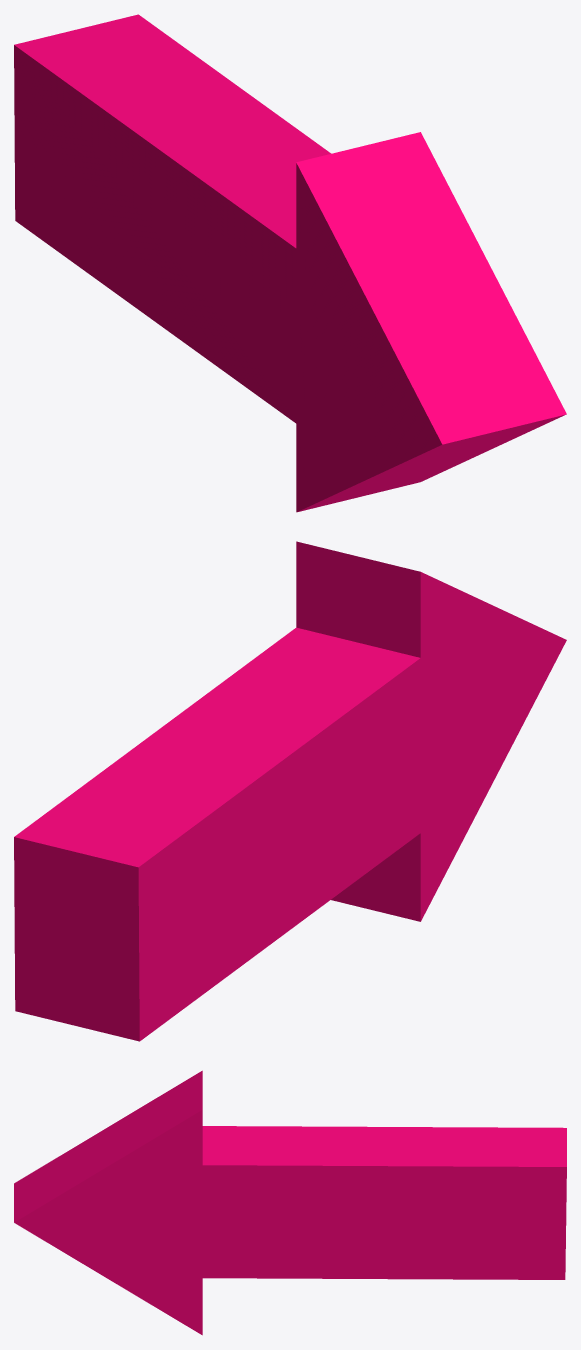
Rendered from arrow.fbx.
The picture shows the model from 3 angles, top to bottom: view 1: azimuth 30°, elevation 25°; view 2: azimuth 150°, elevation 25°; view 3: azimuth 270°, elevation 25°; orthographic projection. The views are drawn at different scales.
Parts seen in each view (by area): view 1: Arrow; view 2: Arrow; view 3: Arrow.
Boxes of the visible parts, x1,y1,x2,y2 form: Arrow: (14, 14, 566, 512); Arrow: (14, 541, 566, 1041); Arrow: (14, 1070, 566, 1335).
Size of the model in its own units: 1.23 by 3.3 by 7.33.
